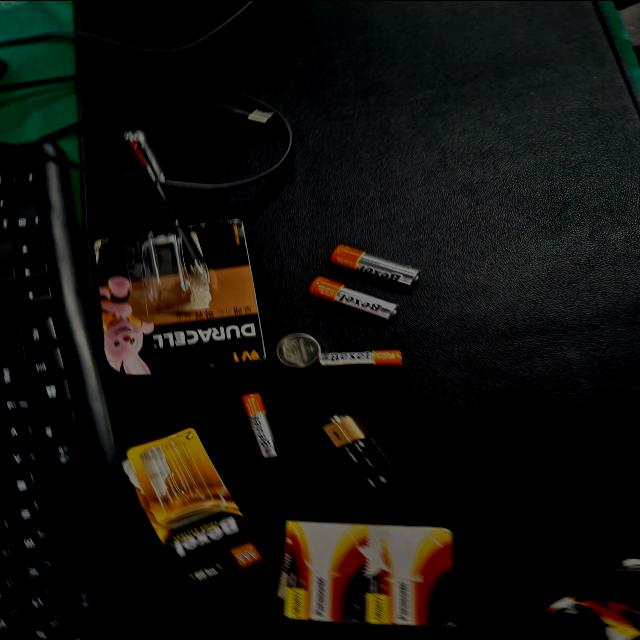9V: (548, 338, 640, 399)
AA: (365, 338, 428, 409), (324, 322, 382, 394)
AAA: (522, 430, 612, 460), (463, 338, 489, 402)
COIN: (439, 398, 495, 434)
